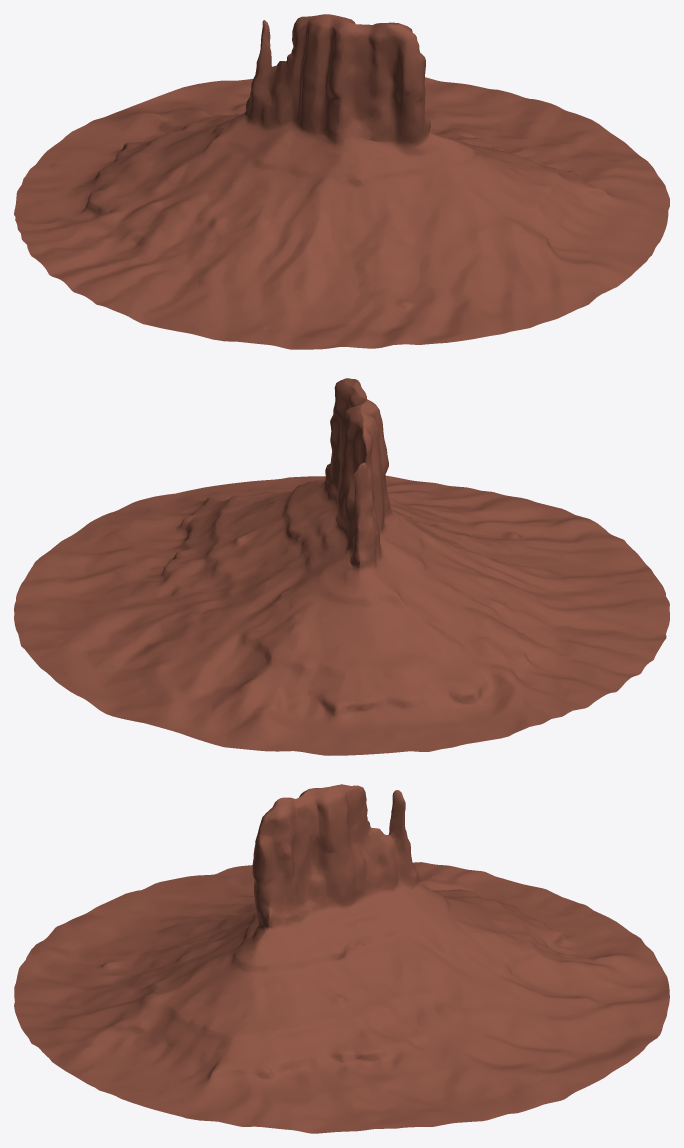
File: wc_canyon03.gltf
3 renders of one model, top to bottom at view 1: azimuth 30°, elevation 25°; view 2: azimuth 150°, elevation 25°; view 3: azimuth 270°, elevation 25°, orthographic.
Visible parts, largest first — view 1: wc_canyon03; view 2: wc_canyon03; view 3: wc_canyon03.
Part boxes in pixels (x1,y1,x2,y2): wc_canyon03: (14,14,669,349); wc_canyon03: (14,378,669,755); wc_canyon03: (14,784,669,1133).
Bounding box in the file's own units: 85.13 × 30.34 × 85.74.
1 material, 1 textured.
